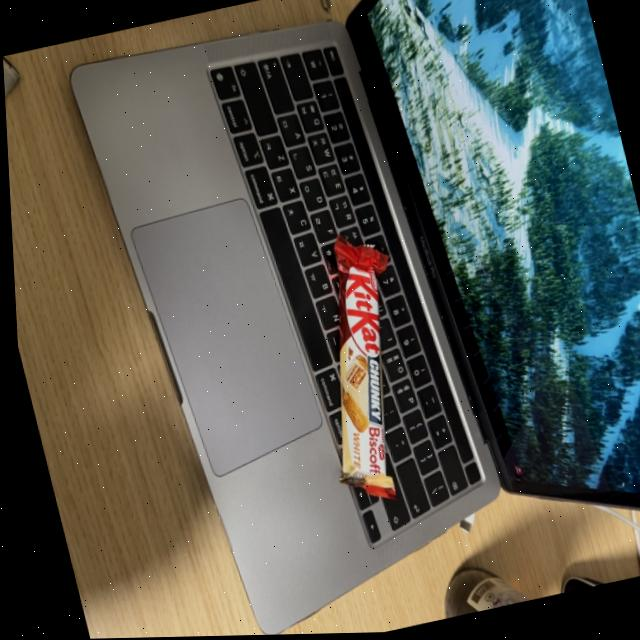chocolate: (275, 219, 442, 512)
